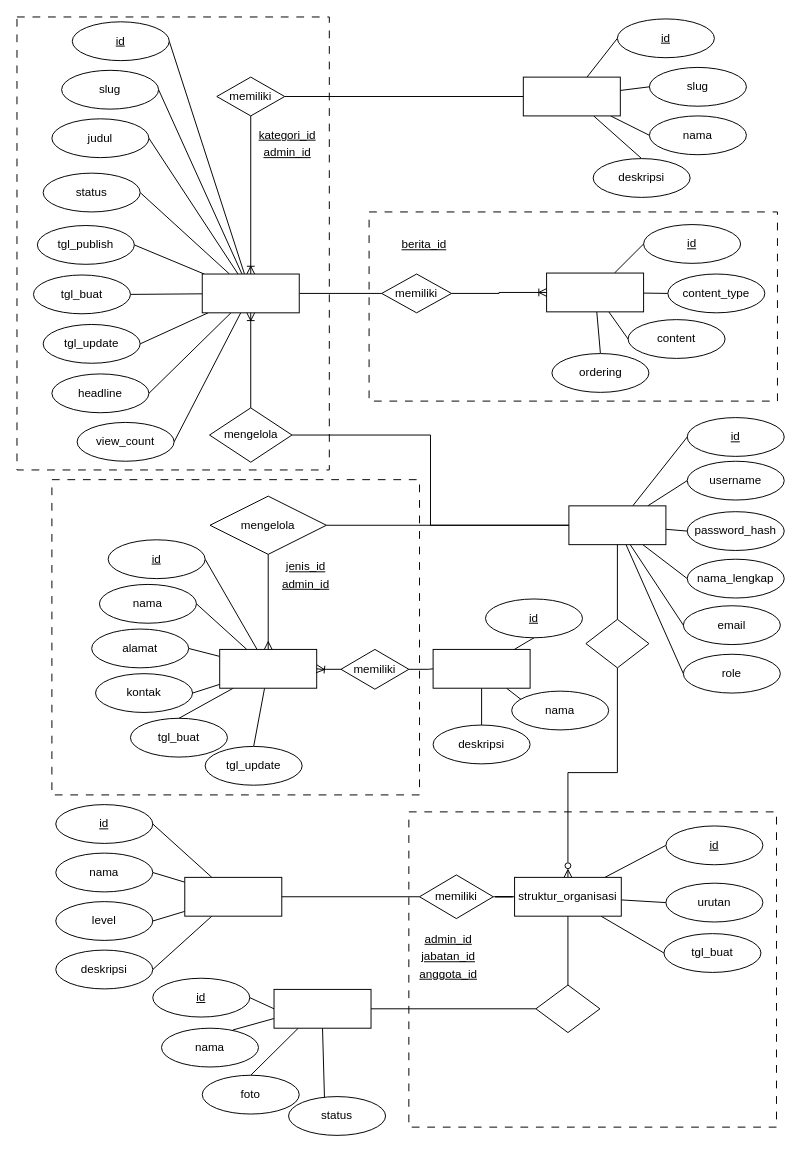
This 801x1152 diagram has some shape labels left out. Each missing label, with the centre of its shape:
"admin" belongs at point (617, 525).
"anggota" belongs at point (322, 1008).
"berita" belongs at point (250, 293).
"berita_content" belongs at point (595, 292).
"fasilitas" belongs at point (268, 668).
"jabatan" belongs at point (233, 896).
"jenis" belongs at point (481, 668).
"kategori" belongs at point (571, 96).
"kelola" belongs at point (617, 643).
"terdiri" belongs at point (567, 1008).
